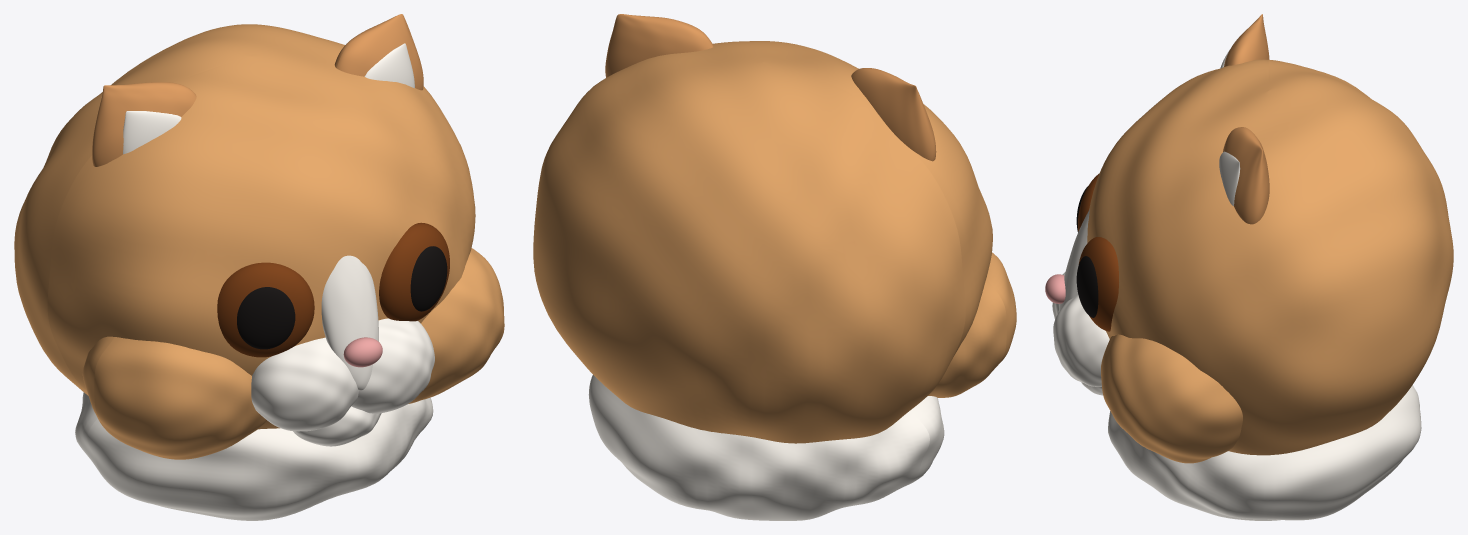
Rendered from head-cat-exotic-full.glb.
The picture shows the model from 3 angles, left to right: view 1: azimuth 30°, elevation 25°; view 2: azimuth 150°, elevation 25°; view 3: azimuth 270°, elevation 25°; orthographic projection. The views are drawn at different scales.
Parts seen in each view (by area): view 1: PM_FUR_MAIN_1, PM_FUR_SECONDARY_17, PM_FUR_MAIN_2, PM_FUR_MAIN_3, PM_FUR_SECONDARY_4, PM_FUR_SECONDARY_5, PM_FUR_SECONDARY_7, PM_EYES_8, PM_EARS_13, PM_EYES_10, PM_EARS_15, Eyes_Pupil_9 (+5 smaller); view 2: PM_FUR_MAIN_1, PM_FUR_SECONDARY_17, PM_FUR_MAIN_2, PM_EARS_15, PM_EARS_13; view 3: PM_FUR_MAIN_1, PM_FUR_SECONDARY_17, PM_FUR_MAIN_3, PM_FUR_SECONDARY_5, PM_EARS_15, PM_EYES_10, PM_EARS_13, Eyes_Pupil_11, PM_FUR_SECONDARY_7, PM_FUR_SECONDARY_16, PM_NOSE_12.
Part boxes in pixels (x1=…): PM_FUR_MAIN_1: x1=14, y1=24, x2=475, y2=429; PM_FUR_SECONDARY_17: x1=75, y1=392, x2=433, y2=520; PM_FUR_MAIN_2: x1=82, y1=336, x2=266, y2=459; PM_FUR_MAIN_3: x1=408, y1=248, x2=504, y2=403; PM_FUR_SECONDARY_4: x1=251, y1=337, x2=358, y2=431; PM_FUR_SECONDARY_5: x1=351, y1=318, x2=434, y2=413; PM_FUR_SECONDARY_7: x1=321, y1=255, x2=378, y2=390; PM_EYES_8: x1=217, y1=262, x2=314, y2=357; PM_EARS_13: x1=92, y1=82, x2=196, y2=166; PM_EYES_10: x1=379, y1=222, x2=449, y2=321; PM_EARS_15: x1=334, y1=14, x2=423, y2=90; Eyes_Pupil_9: x1=237, y1=287, x2=295, y2=349; PM_FUR_MAIN_1: x1=533, y1=41, x2=992, y2=443; PM_FUR_SECONDARY_17: x1=588, y1=375, x2=944, y2=520; PM_FUR_MAIN_2: x1=928, y1=252, x2=1016, y2=397; PM_EARS_15: x1=605, y1=14, x2=713, y2=77; PM_EARS_13: x1=851, y1=68, x2=936, y2=161; PM_FUR_MAIN_1: x1=1087, y1=59, x2=1453, y2=455; PM_FUR_SECONDARY_17: x1=1108, y1=385, x2=1421, y2=520; PM_FUR_MAIN_3: x1=1101, y1=334, x2=1242, y2=463; PM_FUR_SECONDARY_5: x1=1053, y1=294, x2=1109, y2=386; PM_EARS_15: x1=1223, y1=127, x2=1269, y2=224; PM_EYES_10: x1=1078, y1=237, x2=1118, y2=331; PM_EARS_13: x1=1224, y1=14, x2=1269, y2=66; Eyes_Pupil_11: x1=1076, y1=256, x2=1098, y2=317; PM_FUR_SECONDARY_7: x1=1058, y1=209, x2=1089, y2=312; PM_FUR_SECONDARY_16: x1=1219, y1=151, x2=1240, y2=206; PM_NOSE_12: x1=1045, y1=274, x2=1065, y2=303.
Size of the model in its own units: 0.0742 by 0.0781 by 0.0694.
